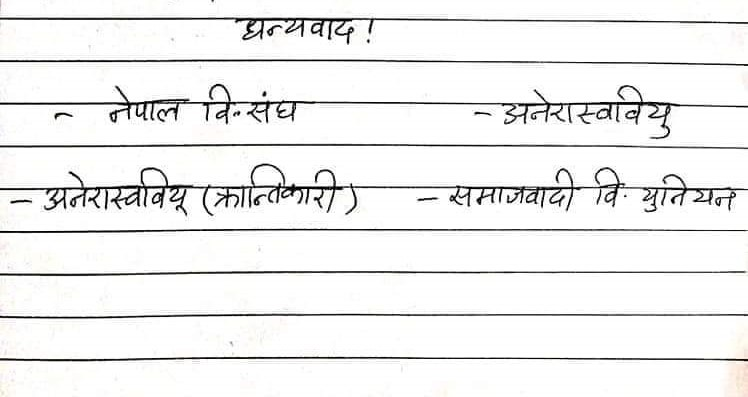text: (497, 84, 680, 140), (41, 164, 192, 218), (589, 164, 740, 215), (210, 159, 338, 215), (447, 163, 582, 212), (201, 84, 302, 126), (236, 15, 354, 45), (106, 83, 188, 125)
